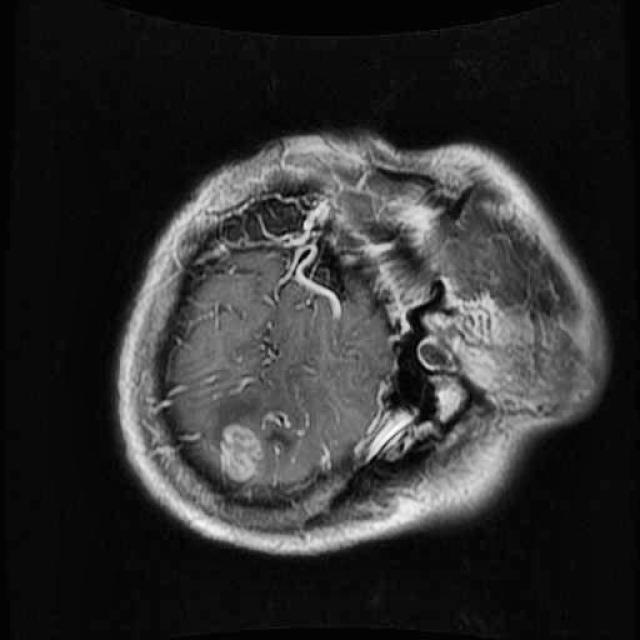Tumor: (208, 415, 276, 490)
